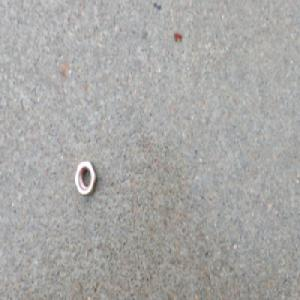Nut: (74, 159, 98, 197)
